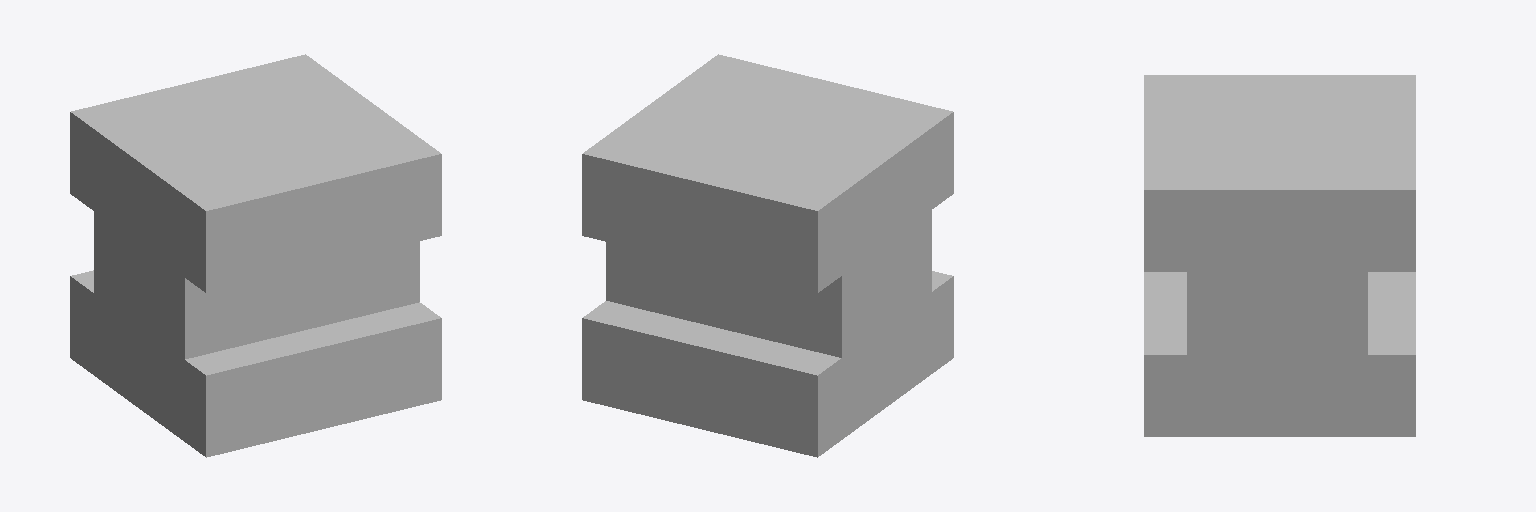
The model's file is sidewall.obj.
The picture shows the model from 3 angles: view 1: azimuth 30°, elevation 25°; view 2: azimuth 150°, elevation 25°; view 3: azimuth 270°, elevation 25°; orthographic projection.
Parts seen in each view (by area): view 1: Cube; view 2: Cube; view 3: Cube.
Boxes of the visible parts, x1,y1,x2,y2 form: Cube: [70, 54, 441, 457]; Cube: [582, 54, 953, 457]; Cube: [1144, 75, 1415, 436].
Bounding box in the file's own units: 2 × 2 × 2.